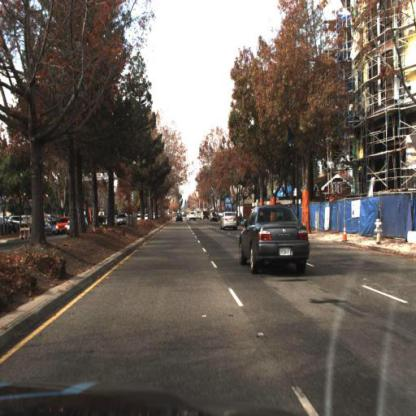car: (239, 204, 313, 277), (219, 210, 237, 235), (56, 215, 75, 237), (188, 209, 199, 225), (175, 209, 185, 226)
